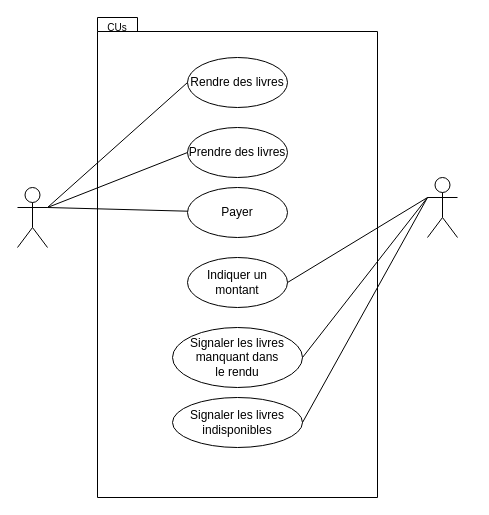
The diagram is 489 pixels wide and 515 high, and some of its shapes have lost their labels. The box of each missing label's shape, as (x1, y1, x2, y2) in pixels:
Application: (426, 176, 458, 238)
Eleve: (16, 186, 48, 248)
